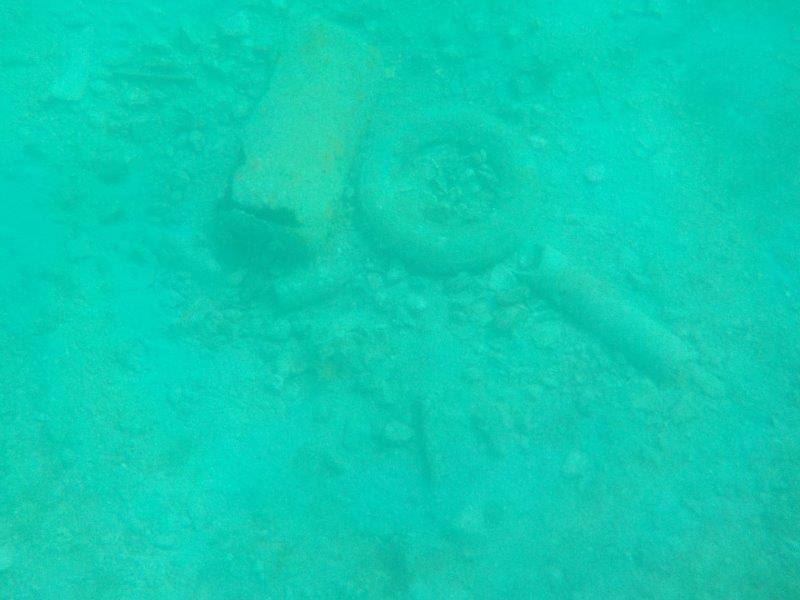bottle: (268, 251, 377, 316), (407, 384, 462, 490)
tire: (352, 96, 549, 280)
